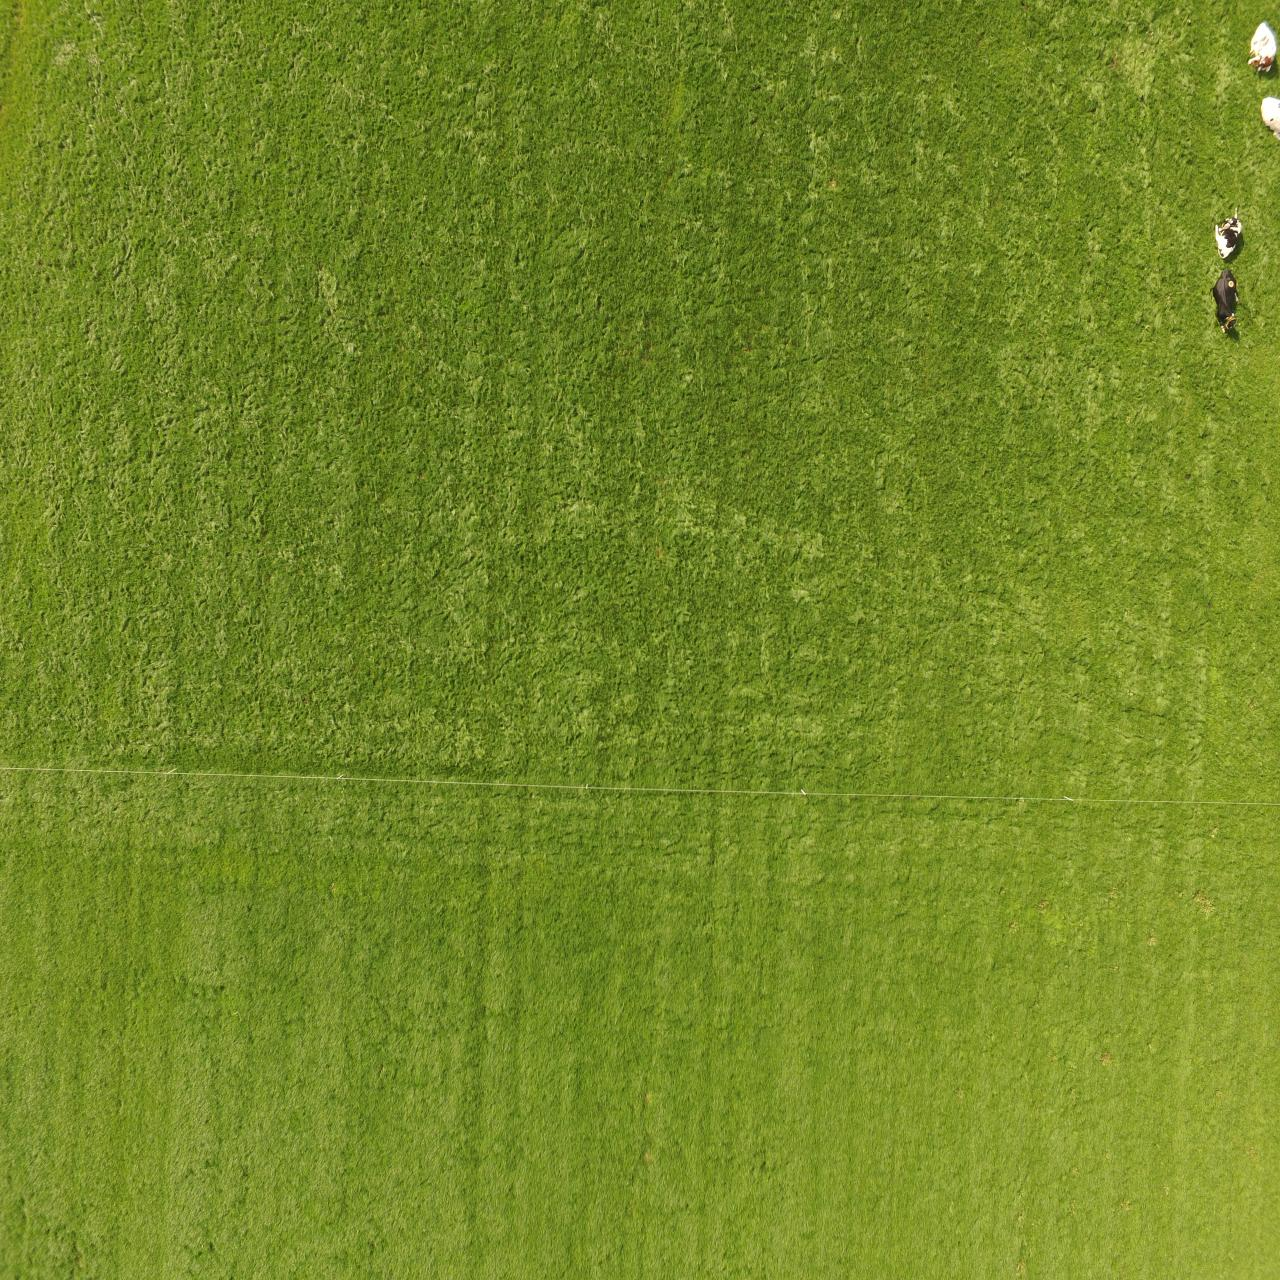cow: (1212, 267, 1242, 336), (1213, 206, 1247, 260), (1248, 22, 1275, 73)
